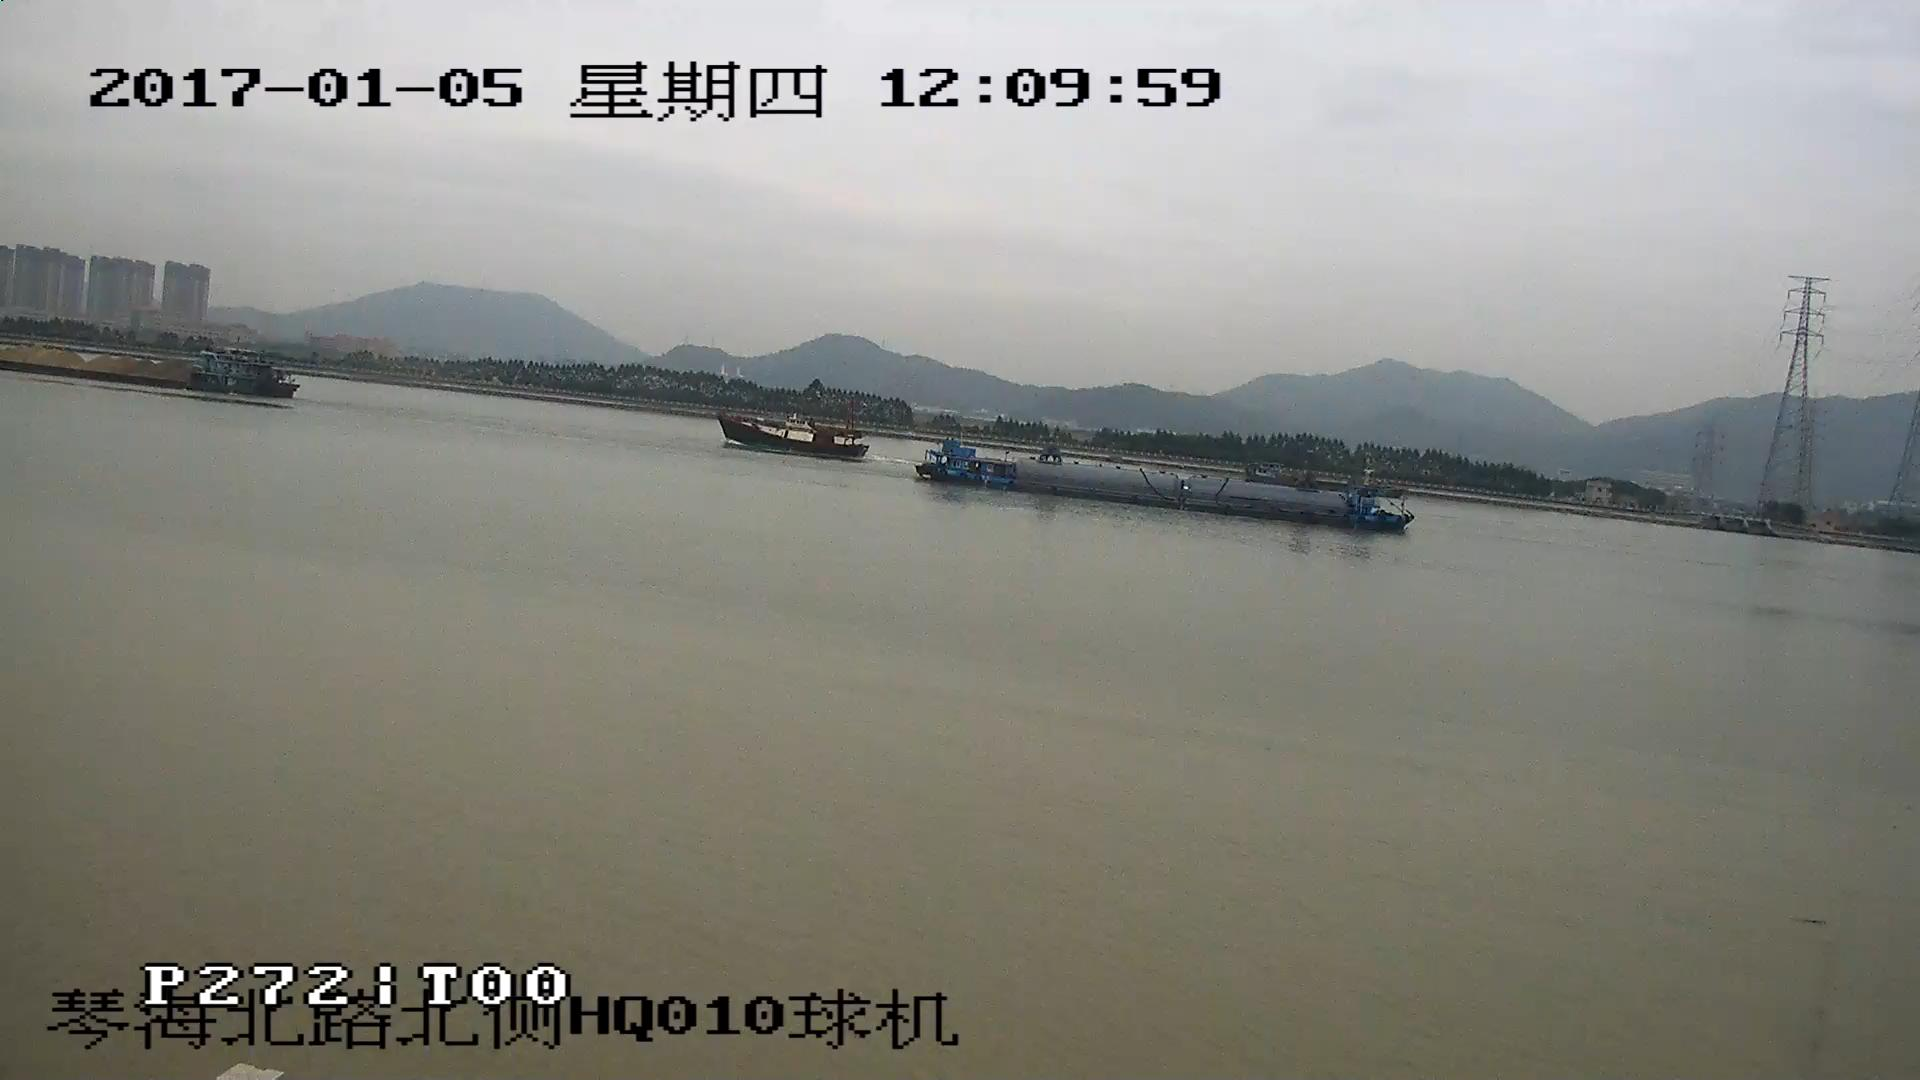bulk cargo carrier: (921, 443, 1411, 531)
fishing boat: (723, 411, 862, 465)
ore carrier: (1, 336, 301, 402)
